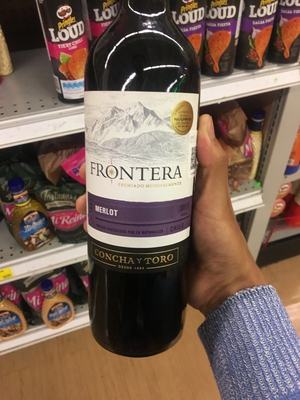frontera merlot: (74, 14, 212, 355)
